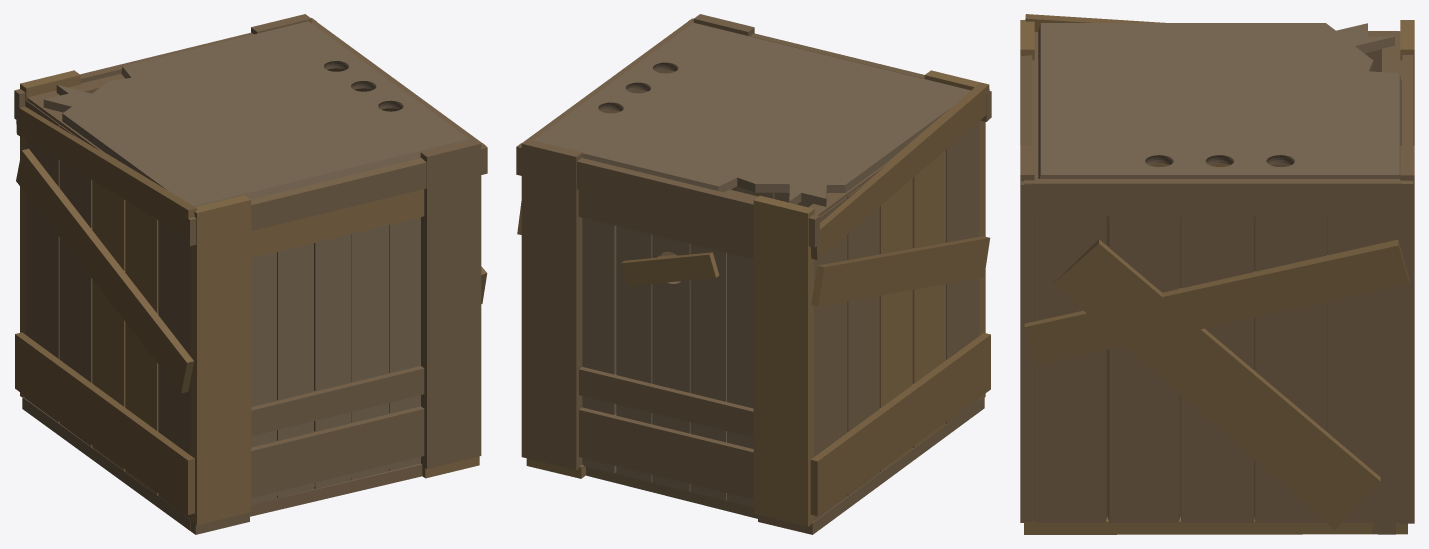
The model's file is Wooden box.fbx.
The picture shows the model from 3 angles, left to right: view 1: azimuth 30°, elevation 25°; view 2: azimuth 150°, elevation 25°; view 3: azimuth 270°, elevation 25°; orthographic projection. The views are drawn at different scales.
Parts seen in each view (by area): view 1: polySurface720, polySurface736, polySurface782, polySurface763, polySurface737, polySurface775, polySurface776, polySurface766, polySurface777, polySurface723, polySurface783, polySurface733 (+13 smaller); view 2: polySurface720, polySurface736, polySurface767, polySurface778, polySurface738, polySurface739, polySurface723, polySurface768, polySurface783, polySurface784, polySurface771, polySurface733 (+14 smaller); view 3: polySurface720, polySurface736, polySurface758, polySurface734, polySurface760, polySurface759, polySurface752, polySurface721, polySurface767, polySurface763, polySurface780, polySurface739 (+5 smaller).
Boxes of the visible parts, bbox=[...] form: polySurface720: bbox=[43, 21, 469, 206]; polySurface736: bbox=[15, 106, 487, 514]; polySurface782: bbox=[190, 195, 251, 525]; polySurface763: bbox=[420, 139, 481, 468]; polySurface737: bbox=[251, 406, 424, 497]; polySurface775: bbox=[351, 225, 388, 480]; polySurface776: bbox=[314, 234, 351, 488]; polySurface766: bbox=[185, 143, 487, 245]; polySurface777: bbox=[277, 243, 313, 498]; polySurface723: bbox=[158, 220, 190, 519]; polySurface783: bbox=[125, 200, 158, 494]; polySurface733: bbox=[25, 100, 59, 422]; polySurface720: bbox=[533, 23, 970, 206]; polySurface736: bbox=[517, 82, 990, 516]; polySurface767: bbox=[521, 139, 582, 470]; polySurface778: bbox=[753, 195, 814, 526]; polySurface738: bbox=[579, 407, 753, 499]; polySurface739: bbox=[516, 143, 819, 247]; polySurface723: bbox=[946, 121, 979, 423]; polySurface768: bbox=[582, 217, 616, 473]; polySurface783: bbox=[912, 150, 945, 447]; polySurface784: bbox=[879, 178, 912, 472]; polySurface771: bbox=[690, 244, 726, 500]; polySurface733: bbox=[814, 197, 847, 520]; polySurface720: bbox=[1038, 23, 1401, 178]; polySurface736: bbox=[1024, 14, 1409, 529]; polySurface758: bbox=[1034, 215, 1107, 522]; polySurface734: bbox=[1328, 215, 1400, 522]; polySurface760: bbox=[1107, 215, 1180, 522]; polySurface759: bbox=[1180, 215, 1254, 522]; polySurface752: bbox=[1024, 179, 1409, 214]; polySurface721: bbox=[1254, 215, 1327, 522]; polySurface767: bbox=[1400, 145, 1414, 523]; polySurface763: bbox=[1020, 145, 1034, 522]; polySurface780: bbox=[1024, 516, 1407, 534]; polySurface739: bbox=[1402, 55, 1413, 214].
Size of the model in its own units: 3.28 by 3.41 by 3.36.
